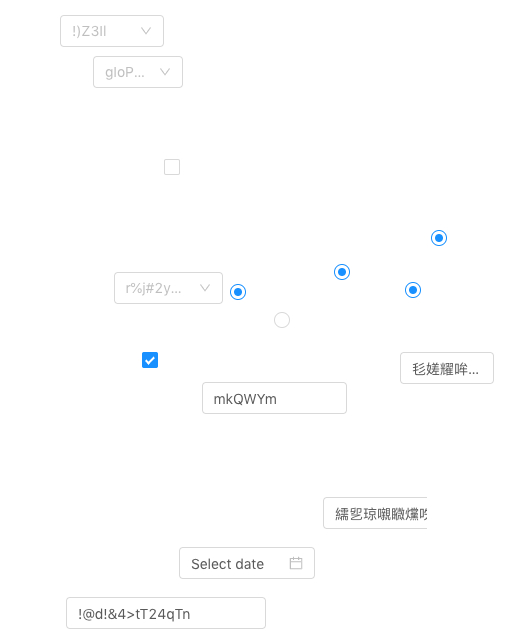Checkbox: (142, 349, 158, 370), (164, 156, 180, 177)
DatePicker: (179, 547, 315, 579)
Input: (66, 597, 266, 629), (202, 382, 347, 414), (323, 497, 427, 529), (400, 352, 494, 384)
Radio: (405, 279, 421, 299), (431, 227, 447, 247), (230, 281, 246, 301), (274, 309, 290, 329), (334, 261, 350, 281)
Select: (114, 272, 223, 304), (60, 15, 164, 47), (93, 56, 183, 88)
